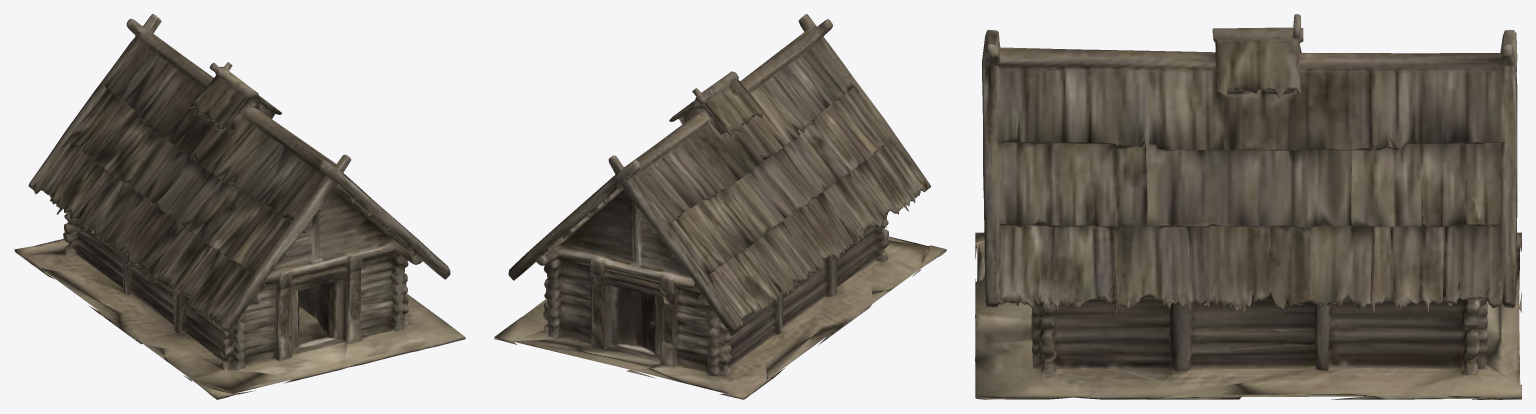
File: house.glb
3 views of the same model, side by side, from view 1: azimuth 30°, elevation 25°; view 2: azimuth 150°, elevation 25°; view 3: azimuth 270°, elevation 25° (orthographic). The views are drawn at different scales.
Visible parts, largest first — view 1: Mesh_0; view 2: Mesh_0; view 3: Mesh_0.
Part boxes in pixels (x1,y1,x2,y2): Mesh_0: (14,14,465,399); Mesh_0: (494,14,946,399); Mesh_0: (975,14,1521,399).
Bounding box in the file's own units: 1.35 × 1.19 × 1.9.
Materials: 1 (1 with a texture image).
